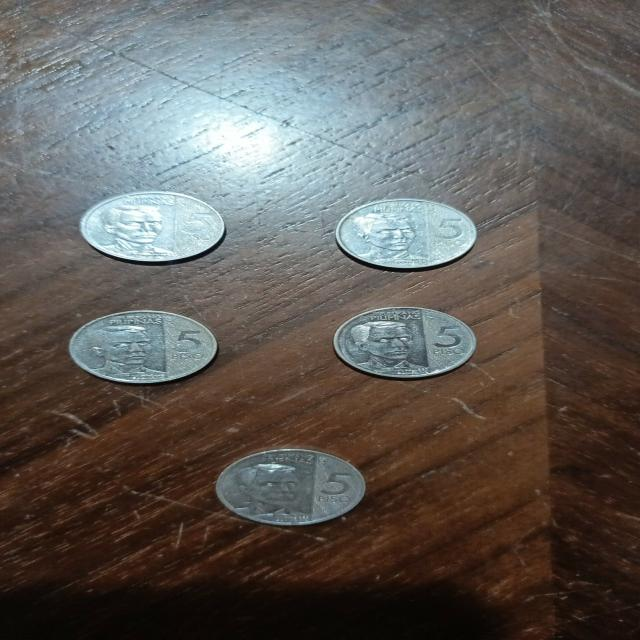5 peso: (62, 306, 223, 388), (328, 198, 482, 276), (213, 449, 366, 526), (80, 192, 222, 263), (333, 308, 472, 378)
